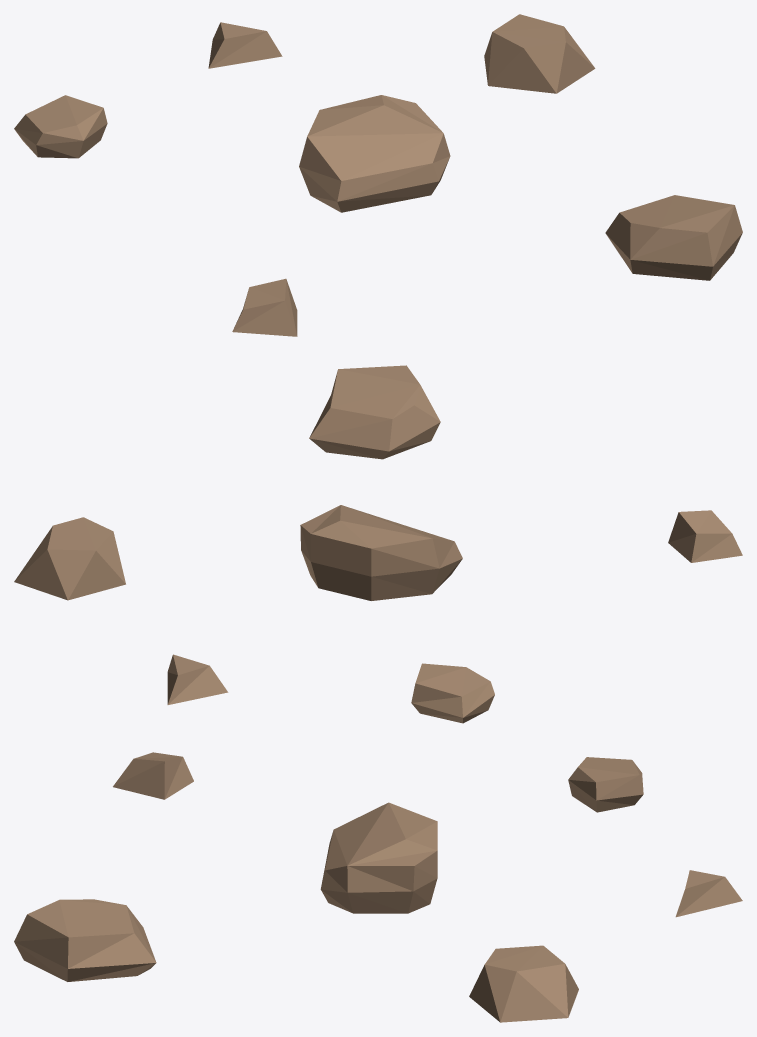
The model's file is TB_Env_Stone_Set3_E.FBX.
3 renders of one model, top to bottom at view 1: azimuth 30°, elevation 25°; view 2: azimuth 150°, elevation 25°; view 3: azimuth 270°, elevation 25°, orthographic. The views are drawn at different scales.
Parts seen in each view (by area): view 1: TB_Env_Stone_Set3_E; view 2: TB_Env_Stone_Set3_E; view 3: TB_Env_Stone_Set3_E.
Boxes of the visible parts, <box> form: TB_Env_Stone_Set3_E: <box>14,14,742,336</box>; TB_Env_Stone_Set3_E: <box>14,365,742,723</box>; TB_Env_Stone_Set3_E: <box>14,752,742,1022</box>.
Bounding box in the file's own units: 2.75 × 0.3027 × 3.3.
